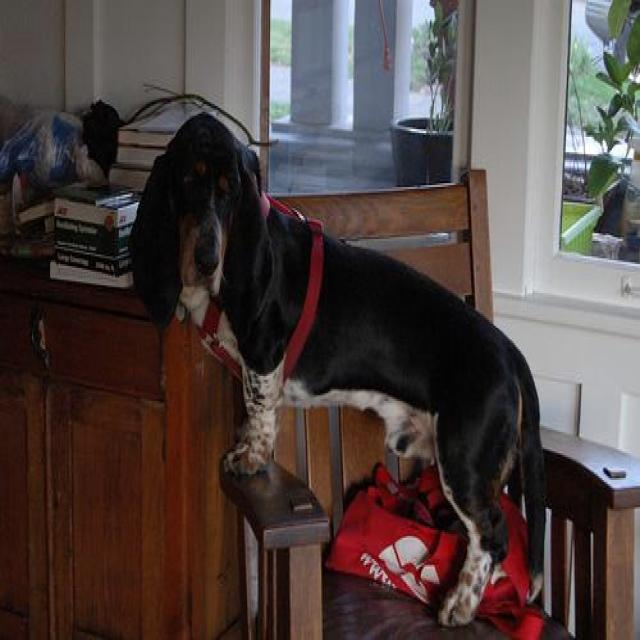basset: (124, 108, 545, 626)
